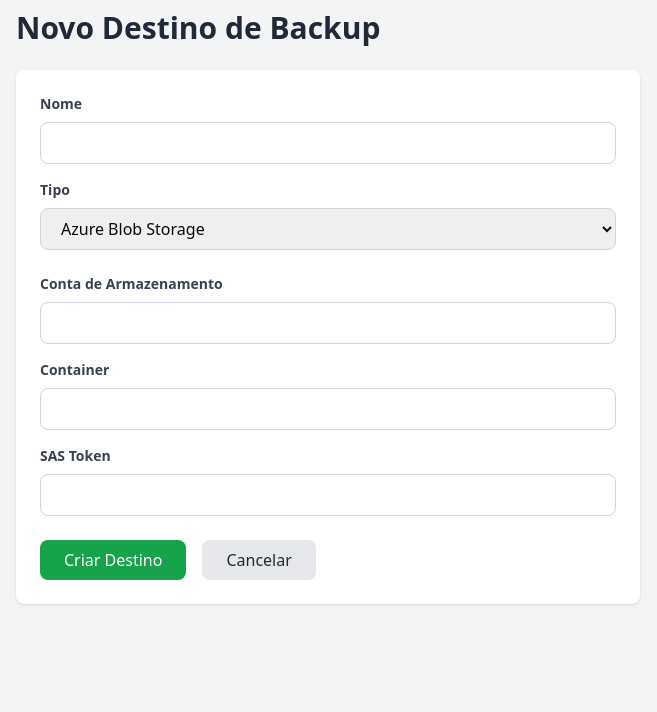
Scenario: StorageTargetNewView › should show an error alert when postStorageTarget fails
Type "Primary Storage" into the field with test id "name-input" at (328, 143), box [40,122,616,164]
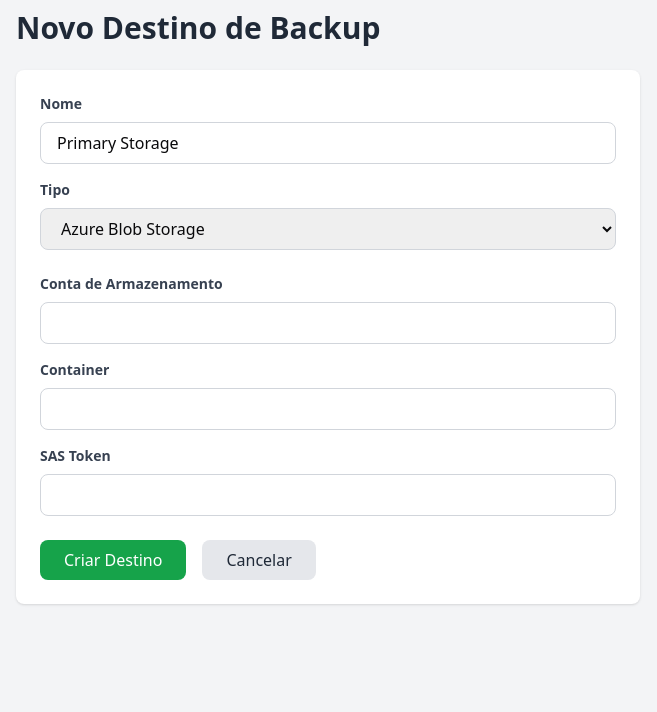
Type "backapeandoprod" into the field with test id "account-name-input" at (328, 323), box [40,302,616,344]
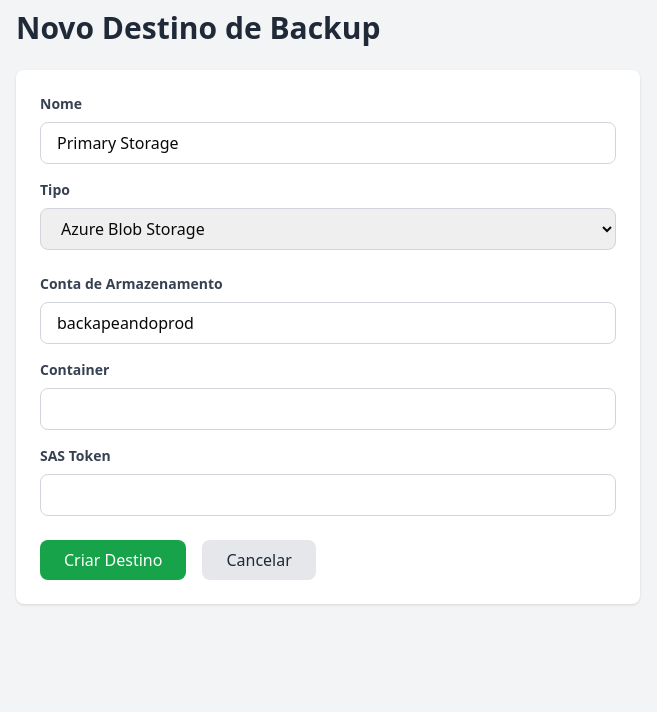
Type "backups" into the field with test id "container-name-input" at (328, 409), box [40,388,616,430]
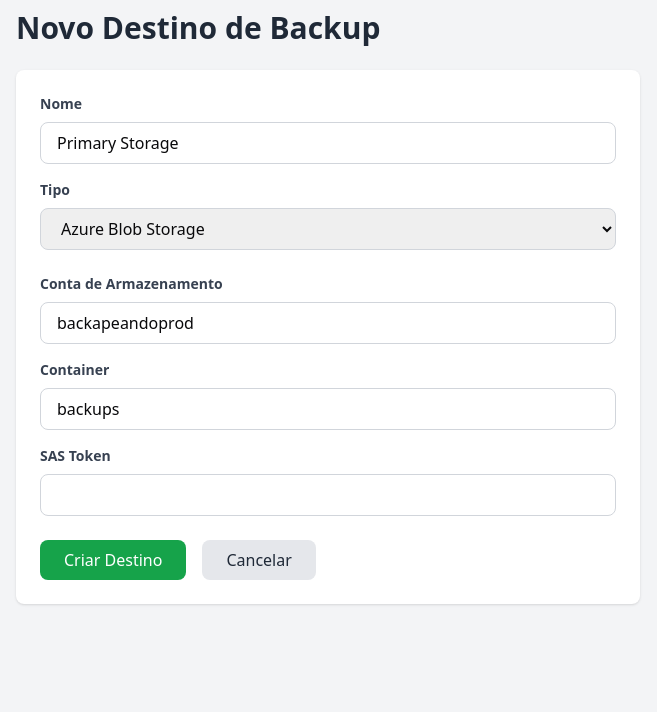
Type "sv=..." into the password field with test id "sas-token-input" at (328, 495), box [40,474,616,516]
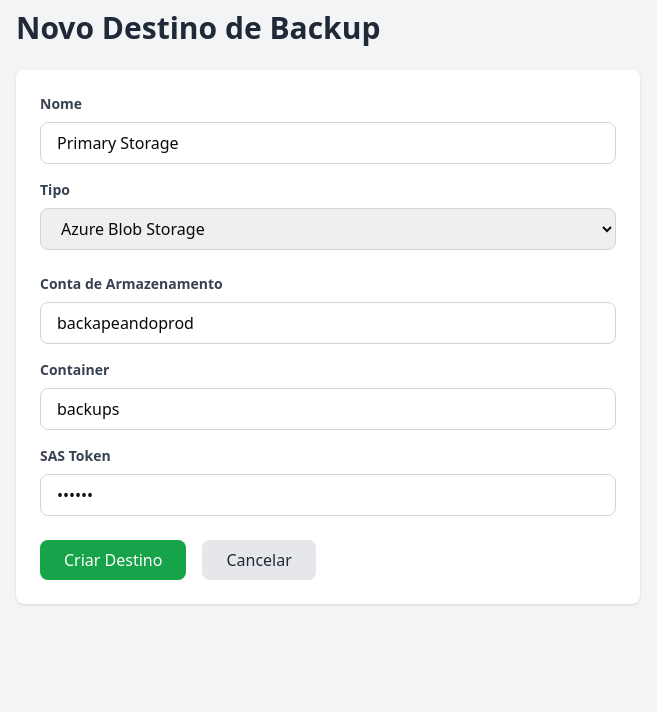
Submit the form with test id "storage-target-form"
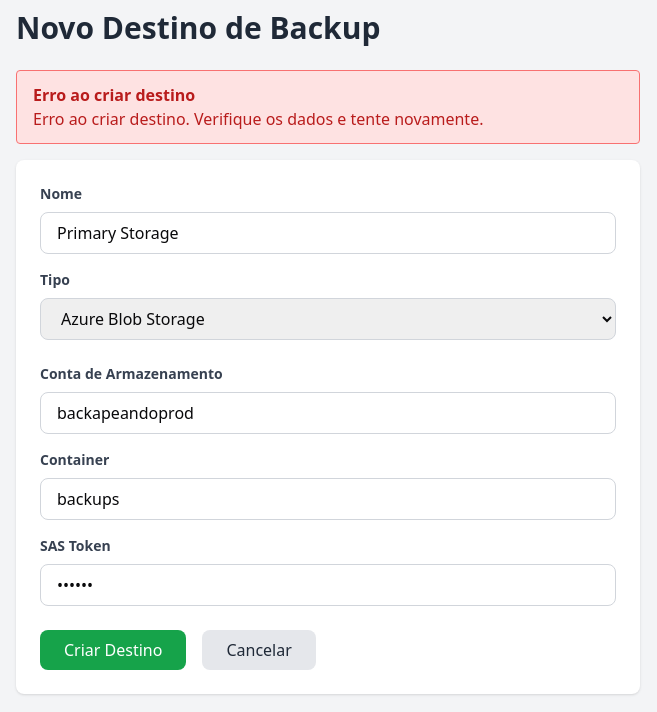
expect the message with test id "error-alert" is shown: met, box [16,70,640,144]
